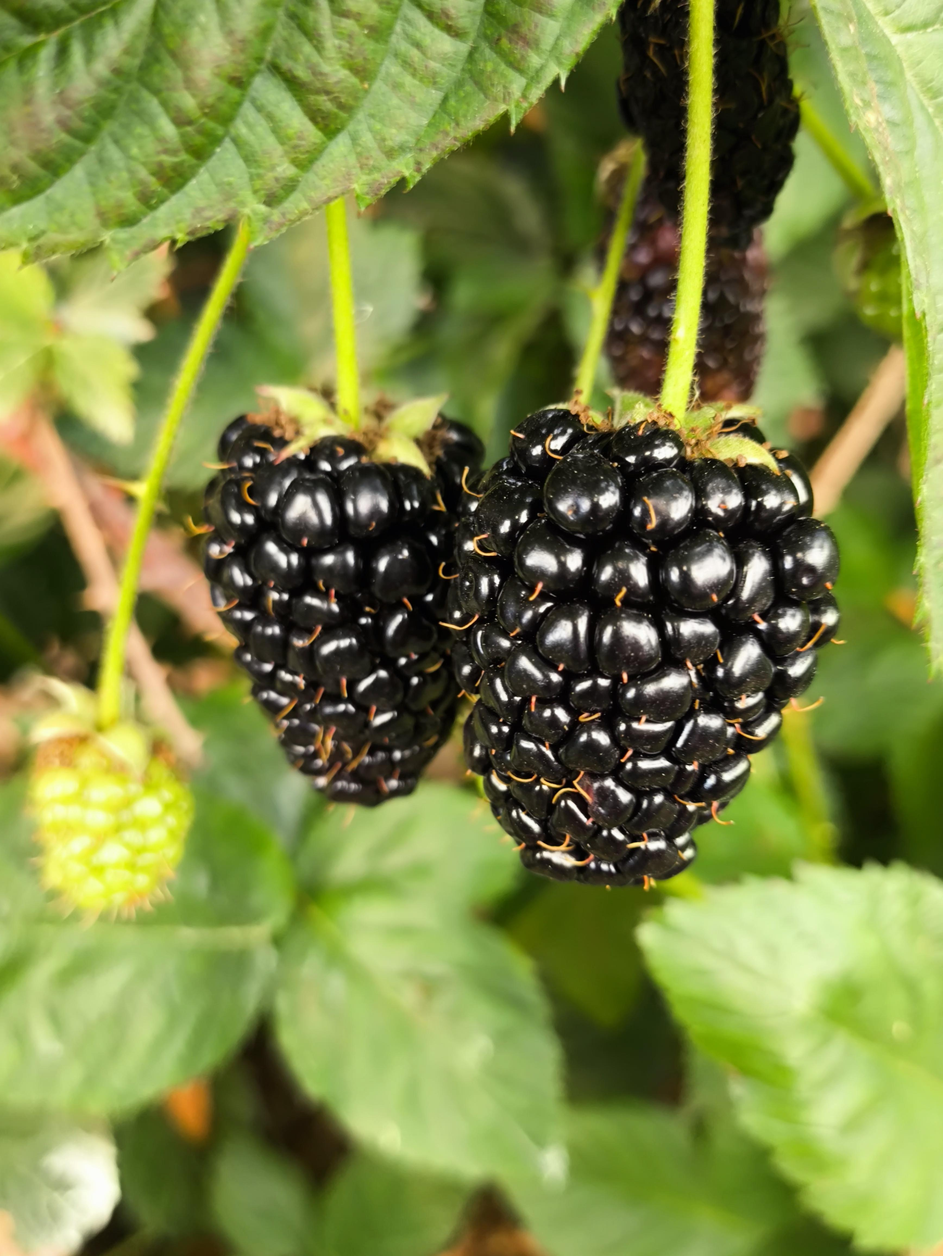maduro: (464, 407, 834, 891), (224, 383, 488, 801)
verde: (27, 684, 194, 914)
